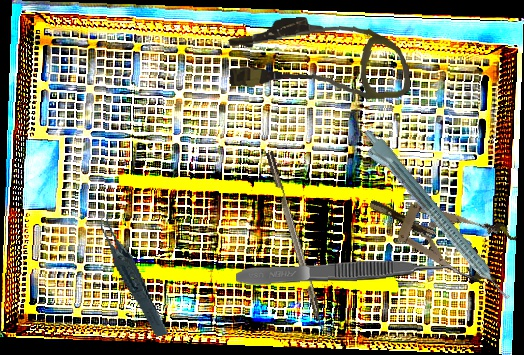Cannula: (226, 9, 411, 110)
Chopper: (265, 148, 336, 339)
Handpiece: (353, 126, 514, 310)
Speculum: (358, 173, 520, 290)
Tissue Forceps: (98, 204, 169, 344), (235, 258, 450, 287)
